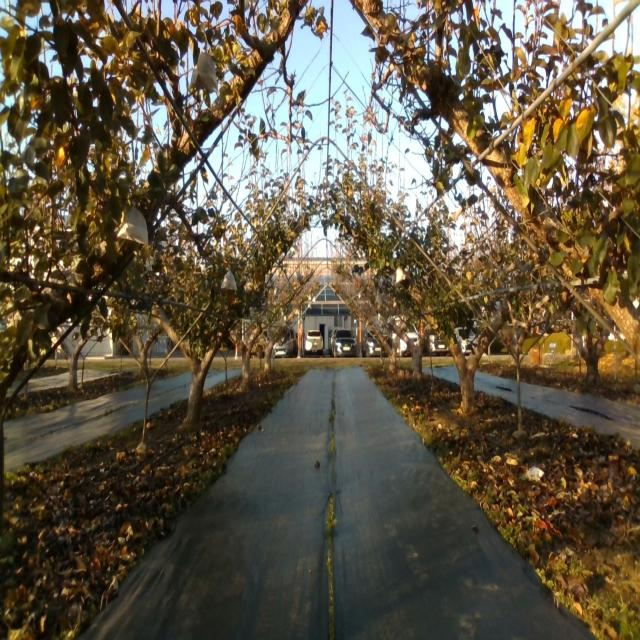pearbags: (117, 205, 149, 246), (190, 50, 218, 93), (221, 271, 238, 291)
